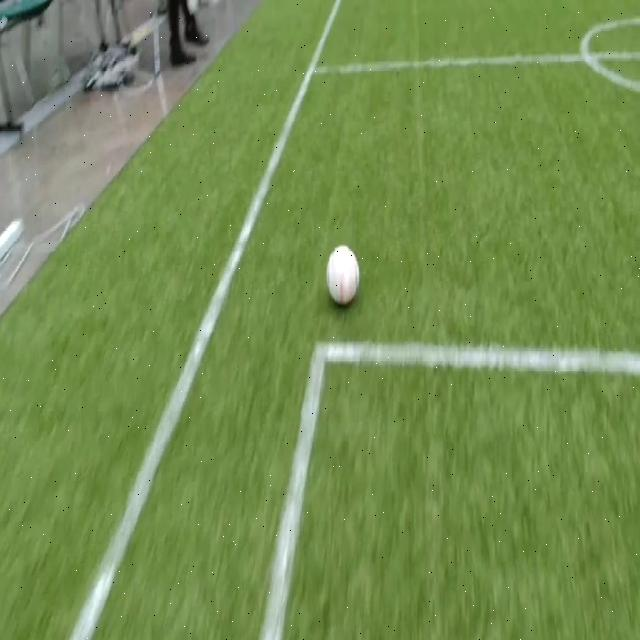ball: (327, 244, 359, 305)
